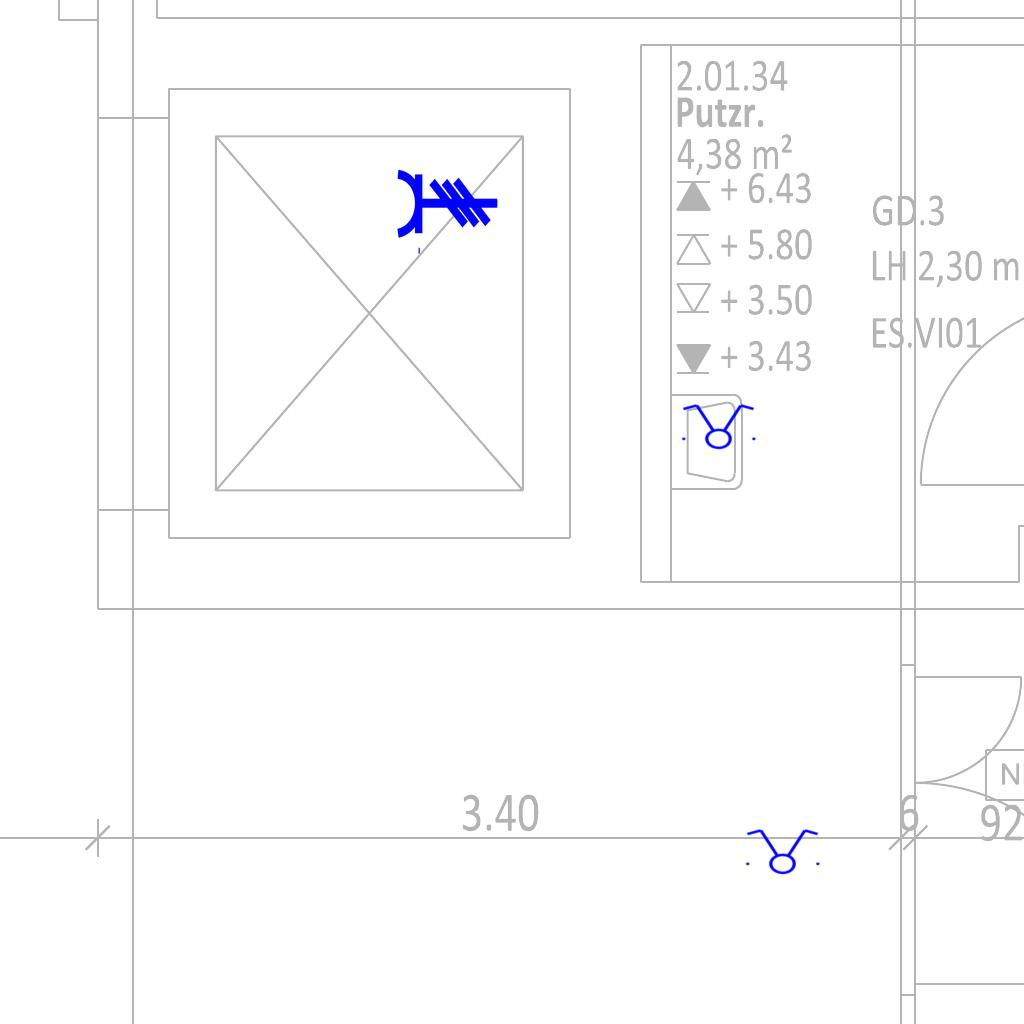CEE_Drehstrom_Steckdose_16_32_A: (395, 167, 499, 257)
Serienschalter: (676, 402, 760, 450), (740, 827, 824, 875)
